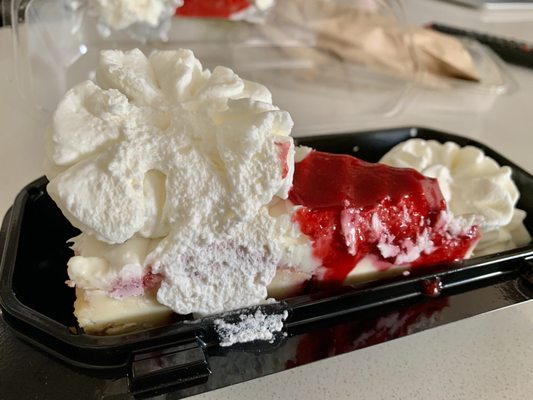soup: (32, 41, 532, 338)
